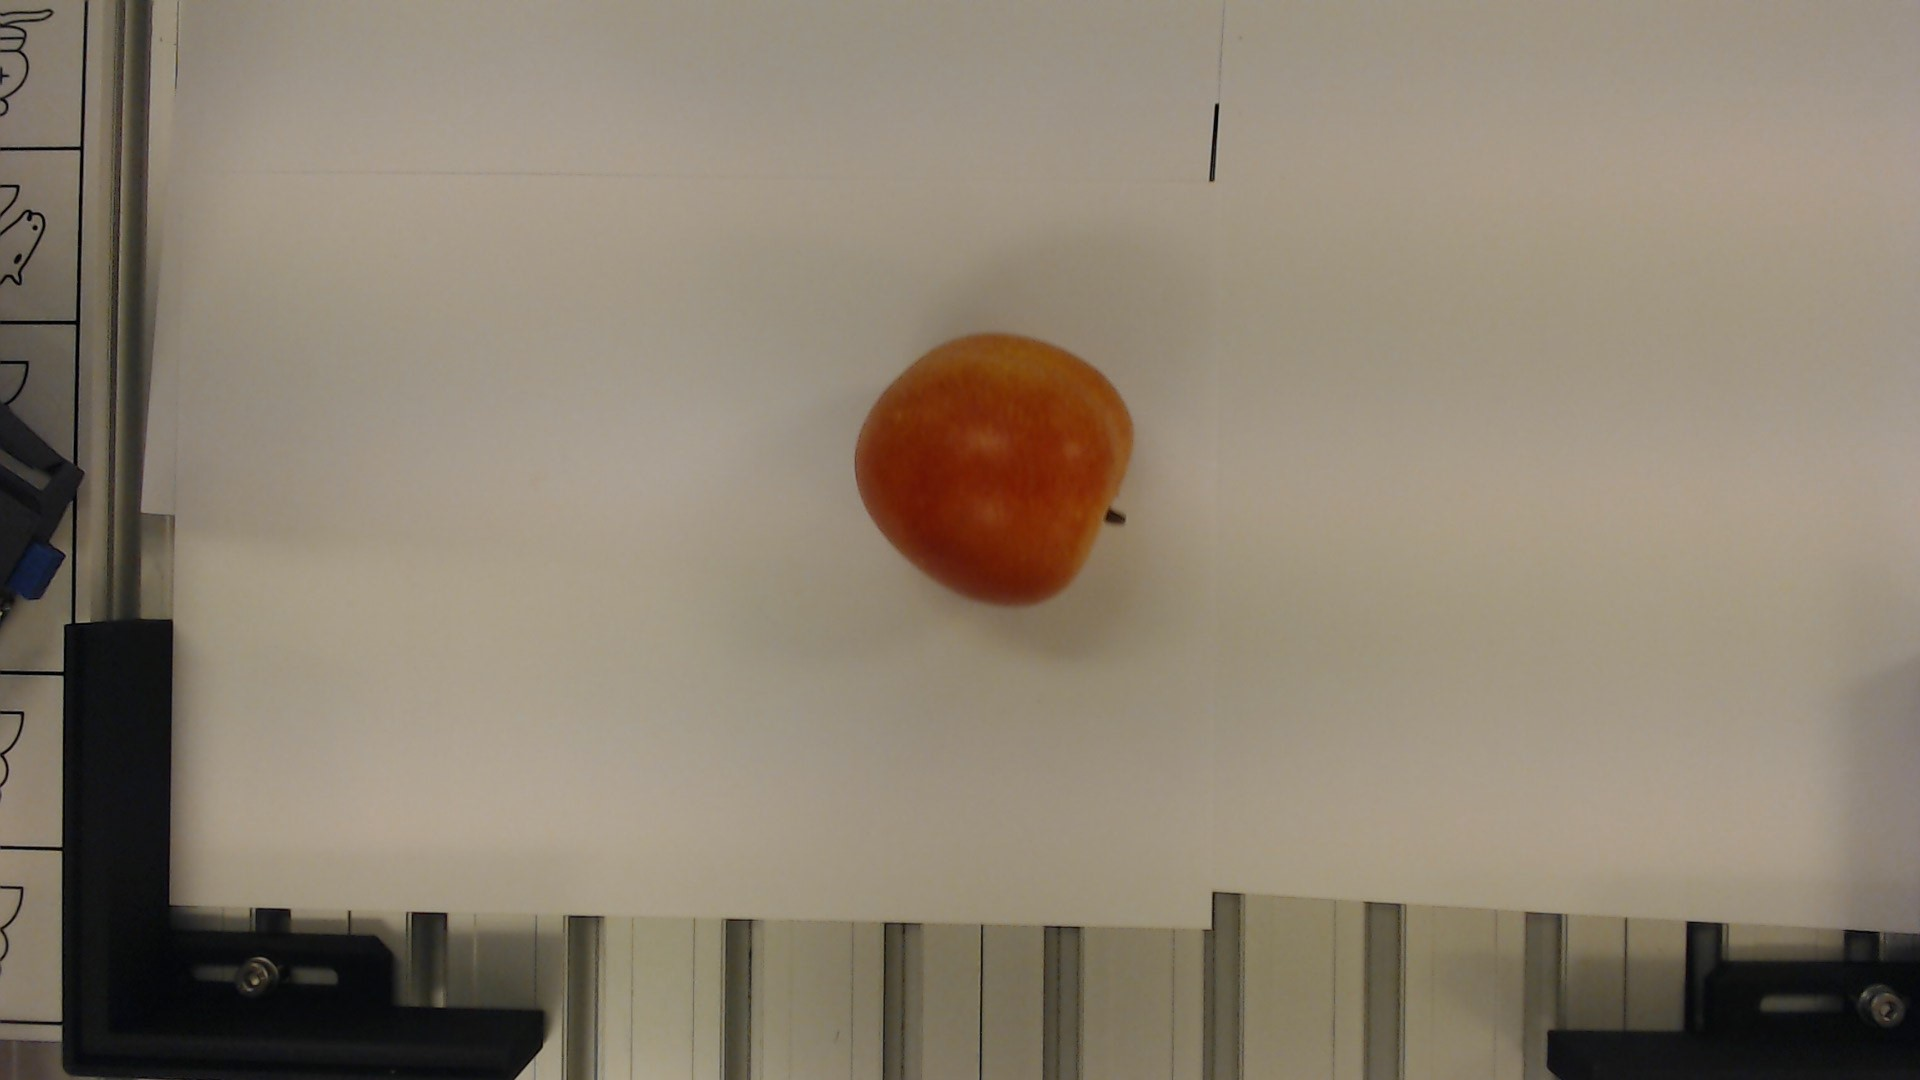Peach: (848, 324, 1151, 609)
